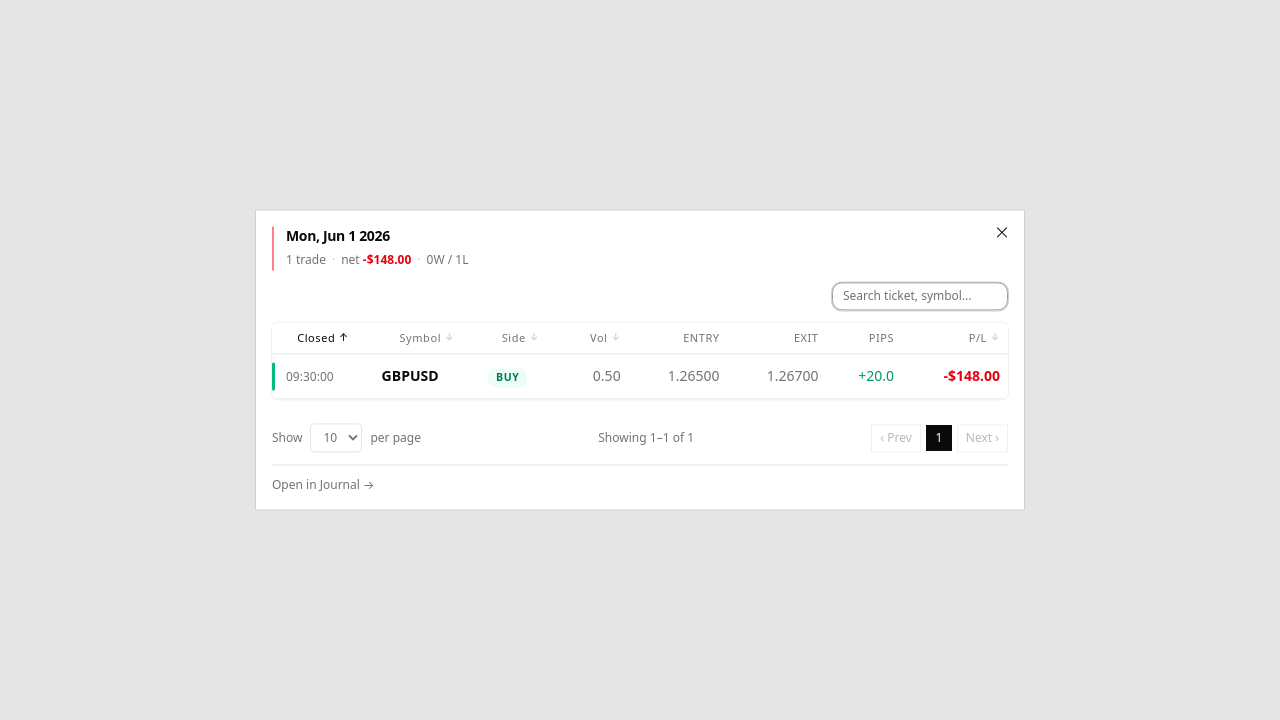
Test: DayTradesModal › shows the empty state when no trades match the search
Type "XAU" into the search field with placeholder "Search ticket, symbol…".
click(920, 296); type("XAU")  # box [832, 282, 1008, 310]
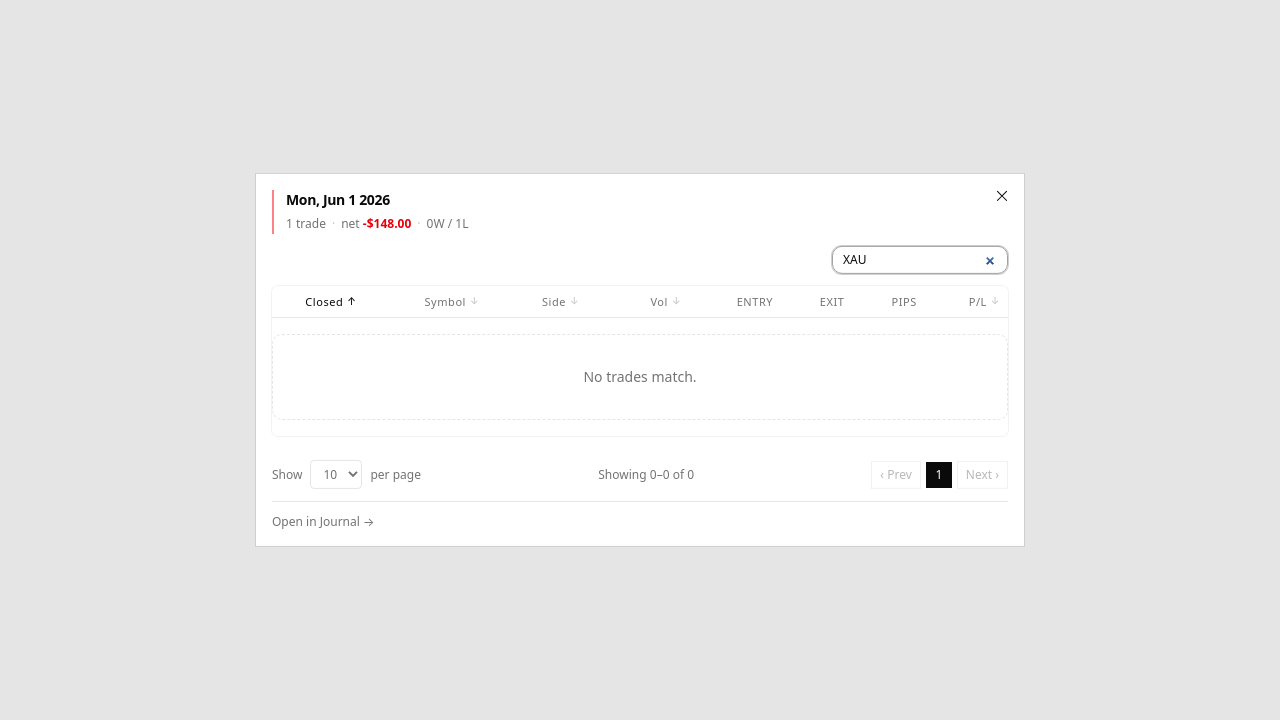
Result: the text "No trades match." is shown at [272, 334, 1008, 420]
